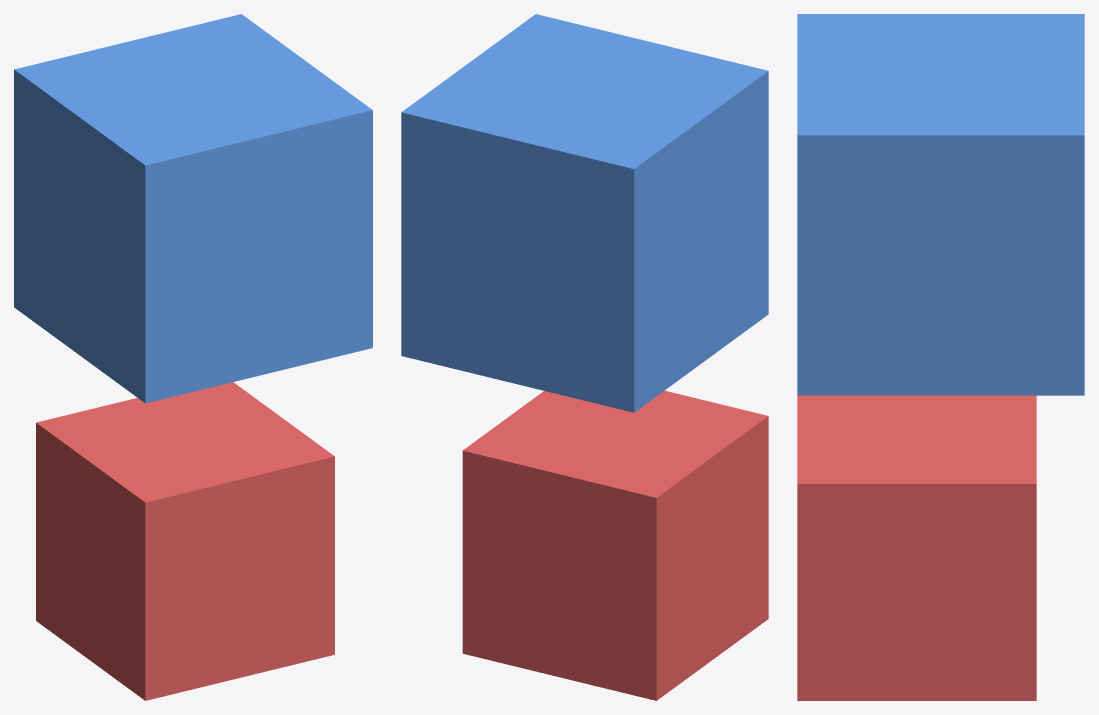
File: sample.glb
The picture shows the model from 3 angles, left to right: view 1: azimuth 30°, elevation 25°; view 2: azimuth 150°, elevation 25°; view 3: azimuth 270°, elevation 25°; orthographic projection. The views are drawn at different scales.
Parts seen in each view (by area): view 1: Blue cube, Red cube; view 2: Blue cube, Red cube; view 3: Blue cube, Red cube.
Boxes of the visible parts, bbox=[...] form: Blue cube: bbox=[14, 14, 372, 403]; Red cube: bbox=[36, 382, 334, 700]; Blue cube: bbox=[401, 14, 768, 412]; Red cube: bbox=[462, 390, 768, 700]; Blue cube: bbox=[797, 14, 1084, 395]; Red cube: bbox=[797, 395, 1036, 700].
Size of the model in its own units: 1.2 by 2.7 by 1.2.
